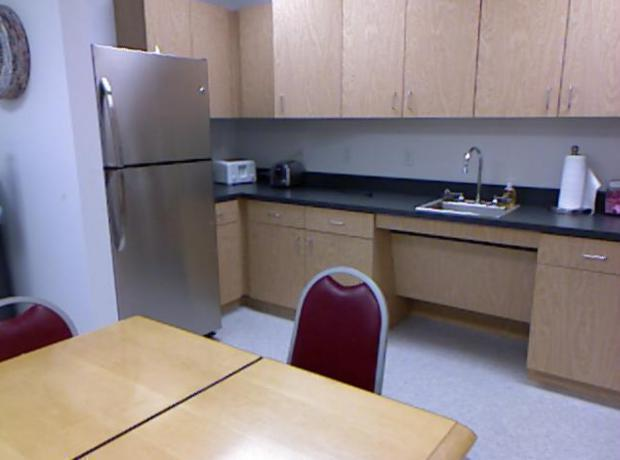Electrodomestico: (85, 36, 225, 353)
Lavaplatos: (412, 144, 525, 228)
